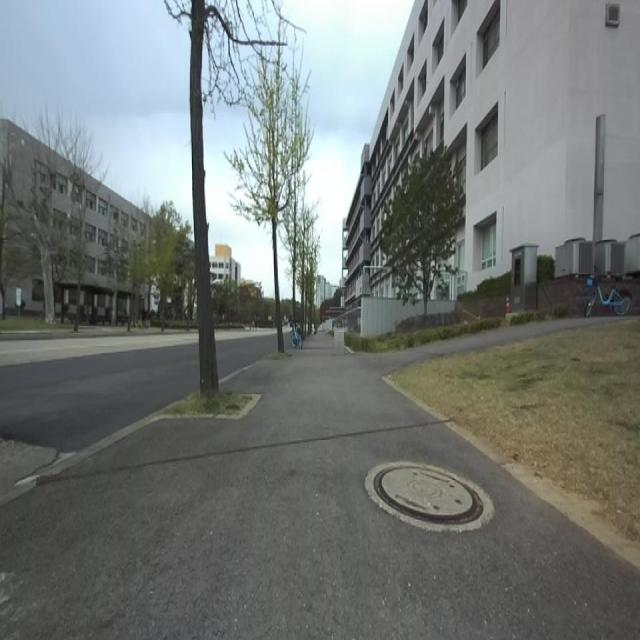sidewalk: (0, 339, 640, 638)
